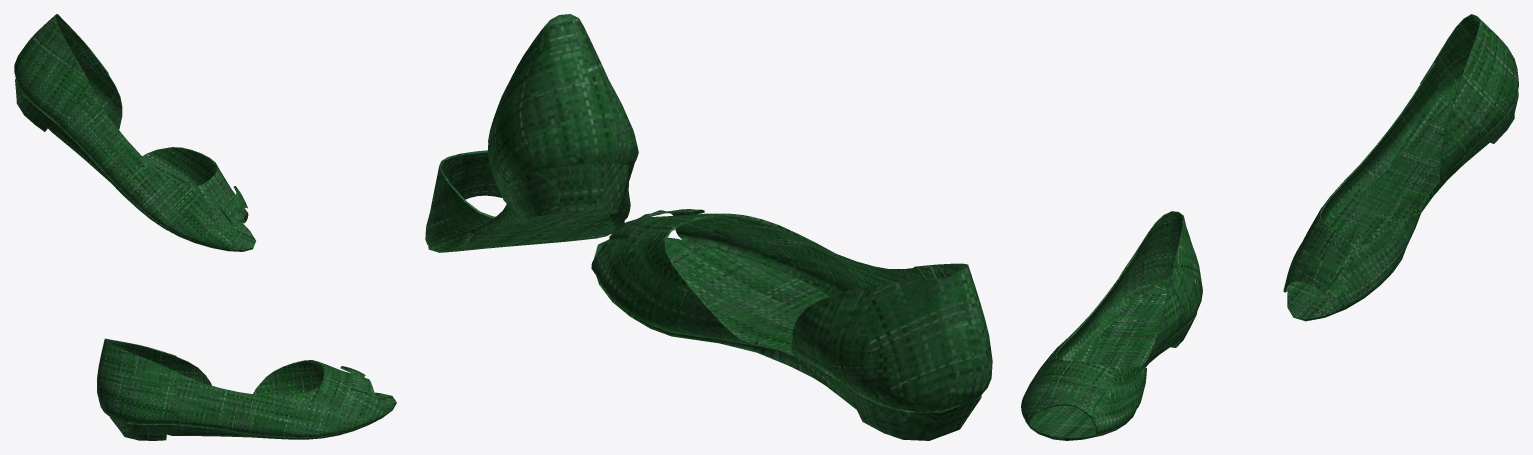
The model's file is gaogenxie03_5.fbx.
3 renders of one model, left to right at view 1: azimuth 30°, elevation 25°; view 2: azimuth 150°, elevation 25°; view 3: azimuth 270°, elevation 25°, orthographic. The views are drawn at different scales.
Parts seen in each view (by area): view 1: gaogenxie03_5; view 2: gaogenxie03_5; view 3: gaogenxie03_5.
Part boxes in pixels (bbox=[...]): gaogenxie03_5: bbox=[14, 14, 396, 440]; gaogenxie03_5: bbox=[425, 14, 992, 440]; gaogenxie03_5: bbox=[1021, 14, 1518, 440].
Size of the model in its own units: 25.84 by 30.01 by 38.8.
